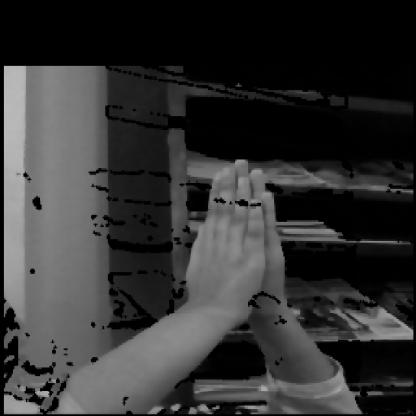namaste: (155, 146, 309, 380)
